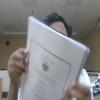notebook: (19, 15, 90, 99)
